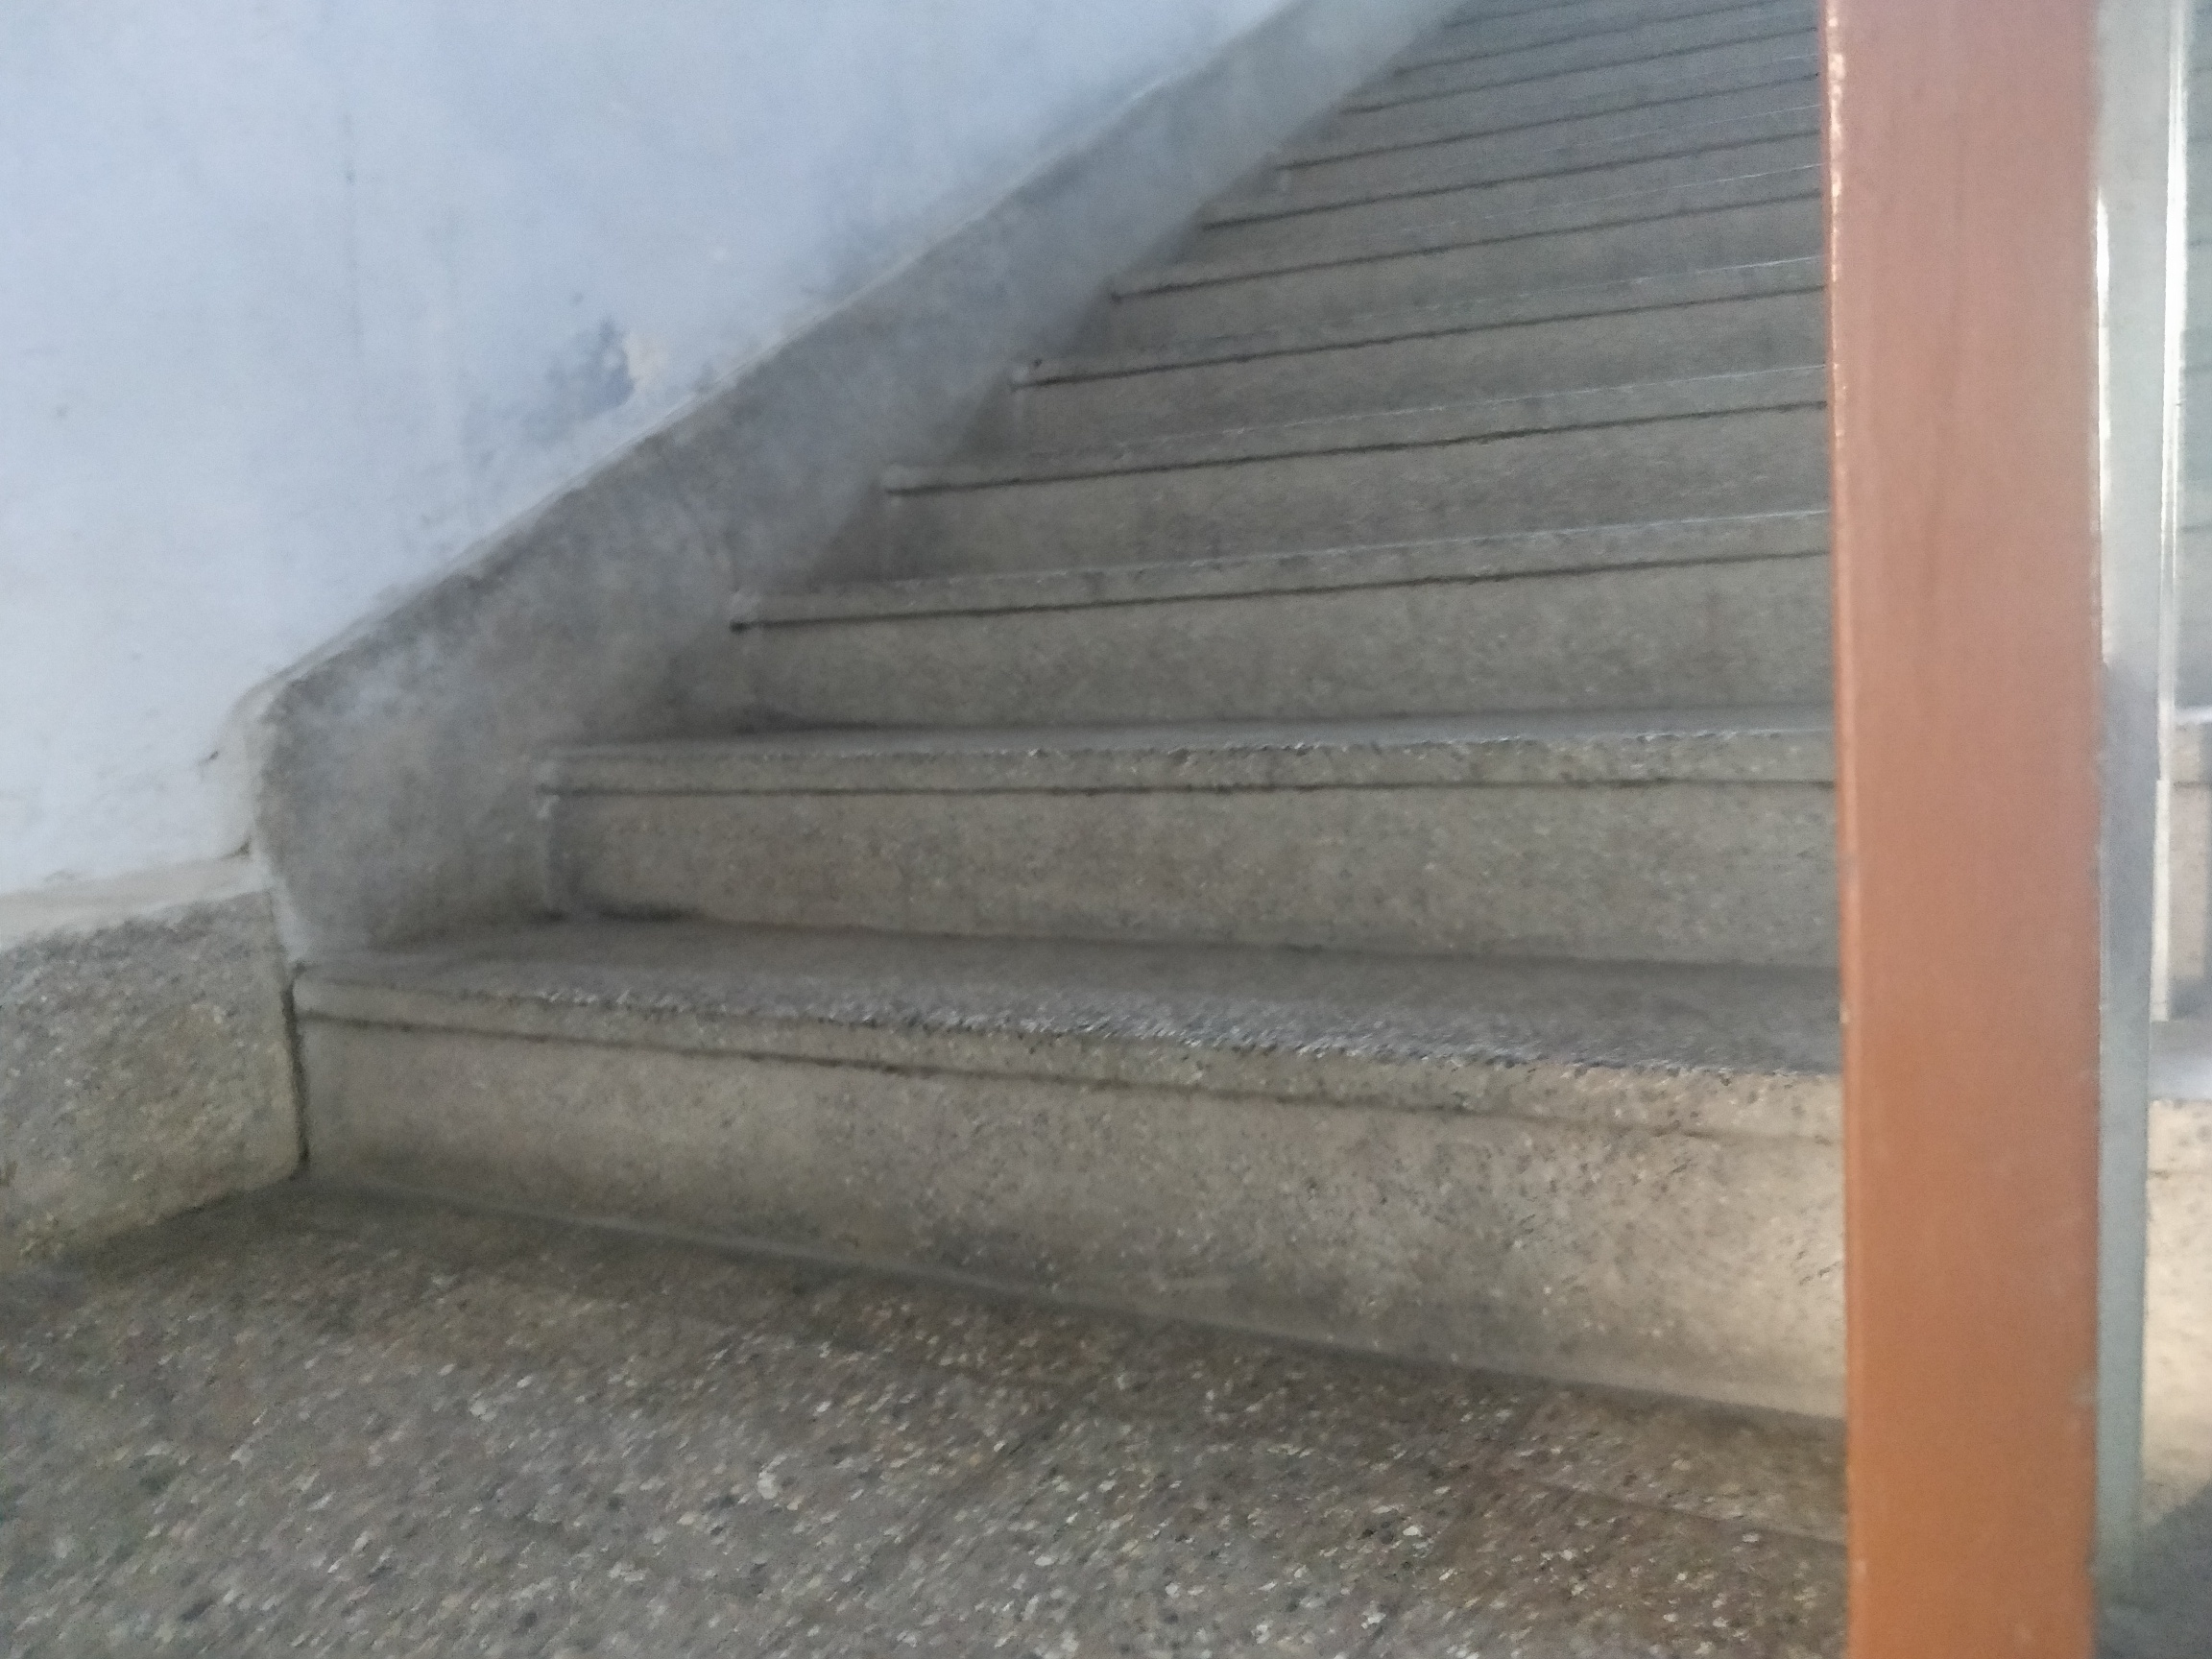stairs_up: (265, 7, 1817, 1326)
